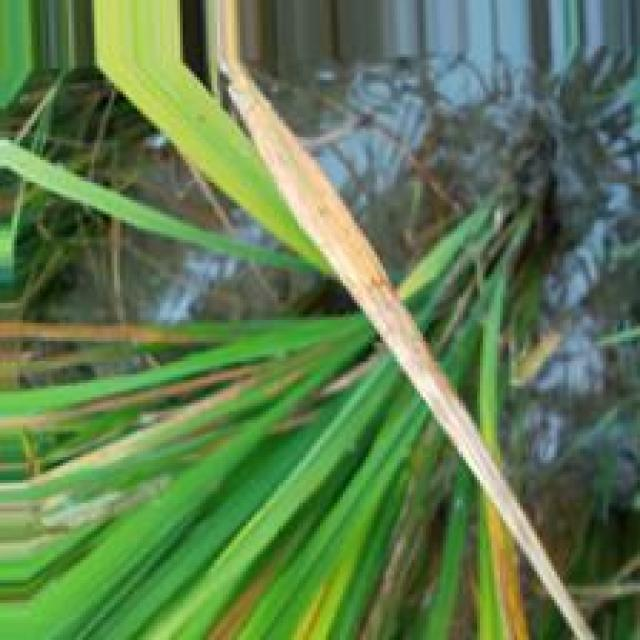Bacterial_Leaf_Blight: (228, 87, 485, 462)
